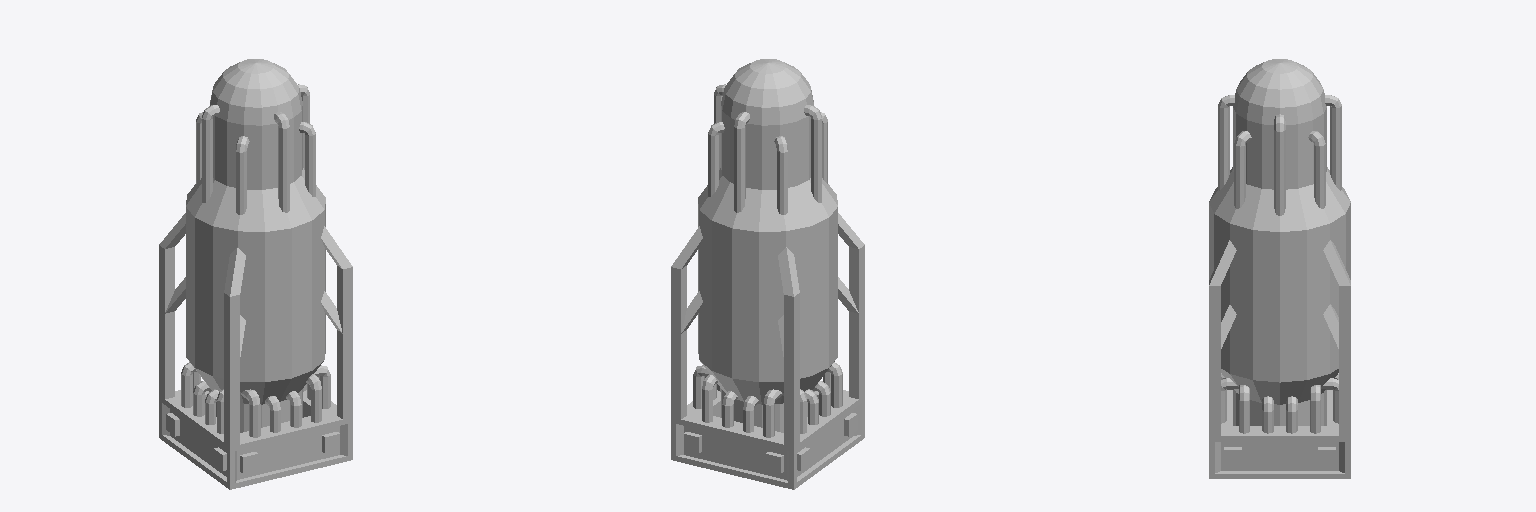
Rendered from vacuum_distill.obj.
3 renders of one model, left to right at view 1: azimuth 30°, elevation 25°; view 2: azimuth 150°, elevation 25°; view 3: azimuth 270°, elevation 25°, orthographic.
Parts seen in each view (by area): view 1: Cylinder; view 2: Cylinder; view 3: Cylinder.
Part boxes in pixels (x1,y1,x2,y2): Cylinder: (159,59,352,489); Cylinder: (671,59,864,489); Cylinder: (1209,59,1350,478).
Bounding box in the file's own units: 3 × 9 × 3.